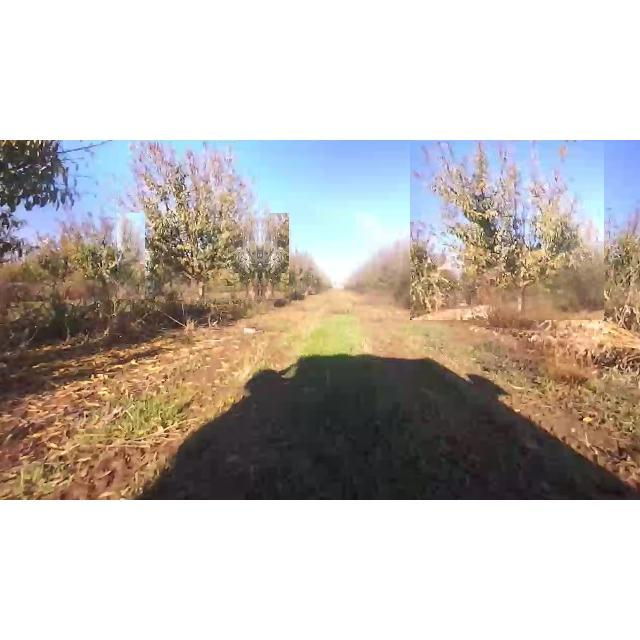direk: (410, 142, 604, 320), (117, 142, 259, 302), (231, 213, 289, 299)
